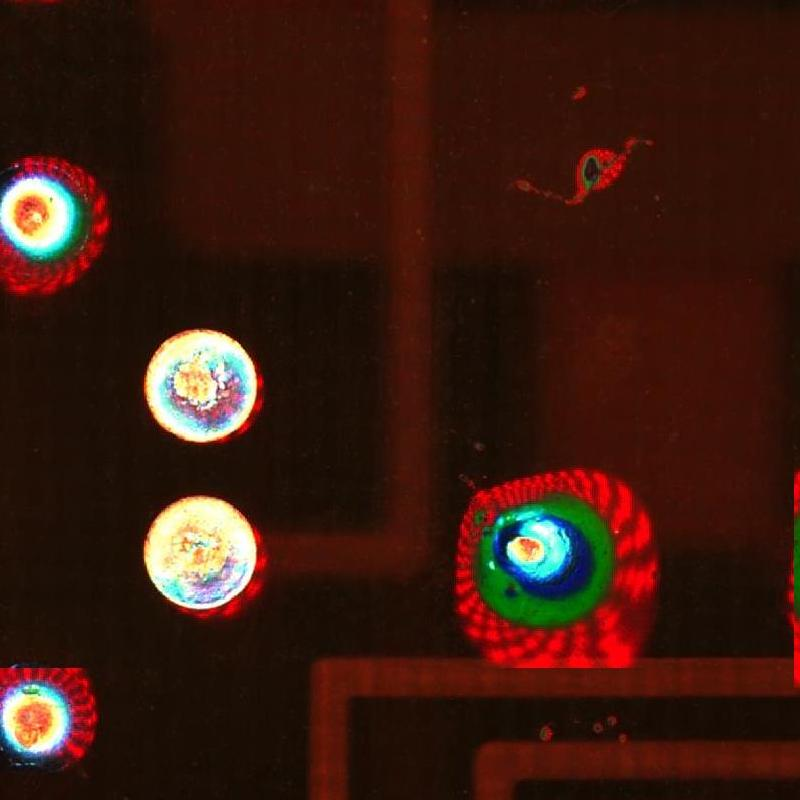bad: (122, 311, 299, 455), (119, 492, 272, 629)
